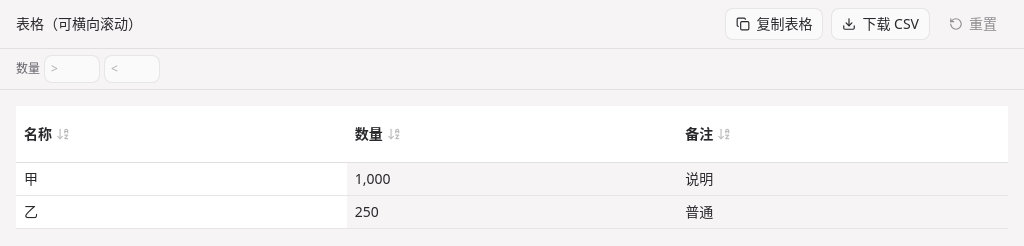
Scenario: FIX-277: 表头 scope 与 aria-sort › 方向箭头 glyph aria-hidden（不与 aria-sort 重复朗读）
Click the button "数量".
click(378, 134)  # box [355,112,401,156]
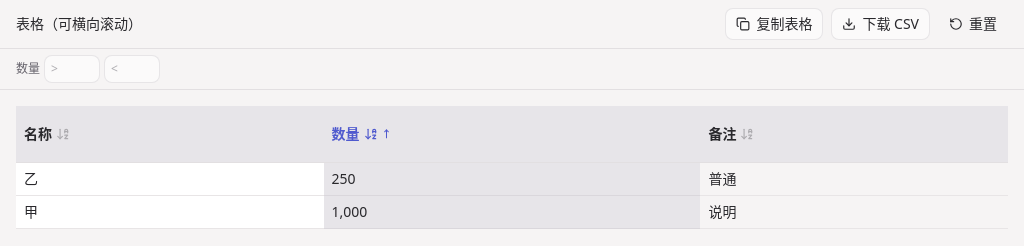
expect the text "↑" is shown: met, box [382,127,392,141]
